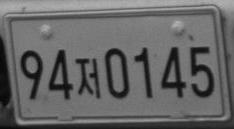0: (104, 46, 129, 98)
1: (131, 46, 157, 98)
4: (160, 46, 187, 97), (48, 48, 73, 98)
5: (189, 45, 216, 98)
9: (18, 49, 43, 99)
저: (75, 57, 101, 99)
